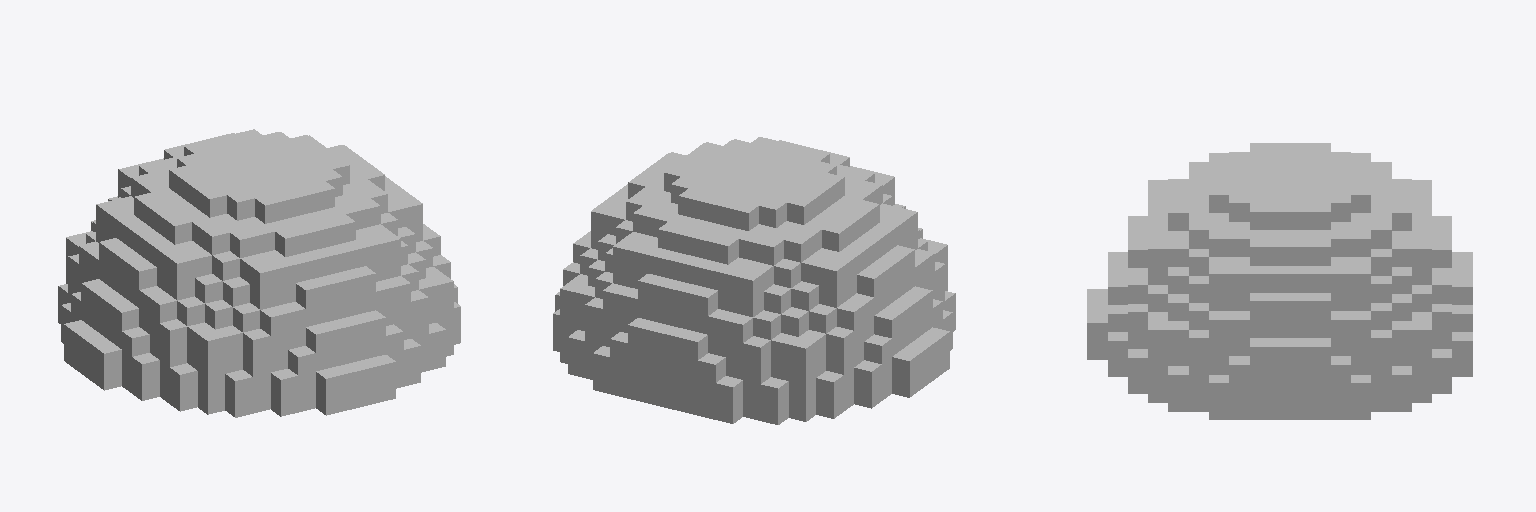
Rendered from grelha_tampa.obj.
3 renders of one model, left to right at view 1: azimuth 30°, elevation 25°; view 2: azimuth 150°, elevation 25°; view 3: azimuth 270°, elevation 25°, orthographic.
Visible parts, largest first — view 1: grelha_tampa; view 2: grelha_tampa; view 3: grelha_tampa.
Part boxes in pixels (x1,y1,x2,y2): grelha_tampa: (58, 129, 460, 417); grelha_tampa: (553, 137, 955, 424); grelha_tampa: (1087, 143, 1472, 419).
Bounding box in the file's own units: 19 × 9 × 19.